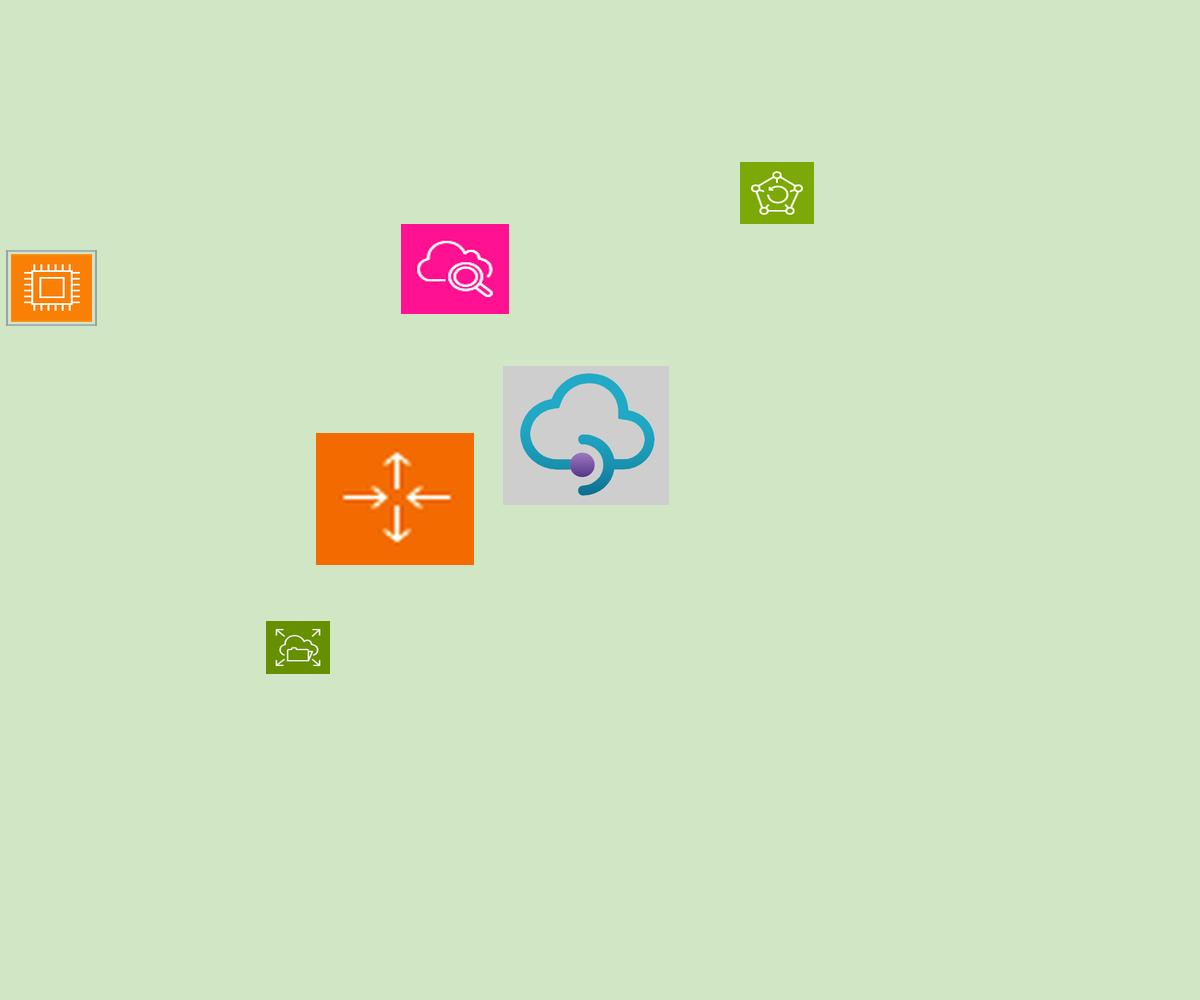AWS-Backup: (740, 162, 814, 224)
AWS-Category_Compute: (6, 250, 97, 326)
AWS-CloudWatch: (401, 224, 509, 314)
AWS-EFS: (266, 621, 330, 674)
AWS-Scaling-group: (316, 433, 474, 565)
Azure_api_gateway: (503, 366, 669, 505)
